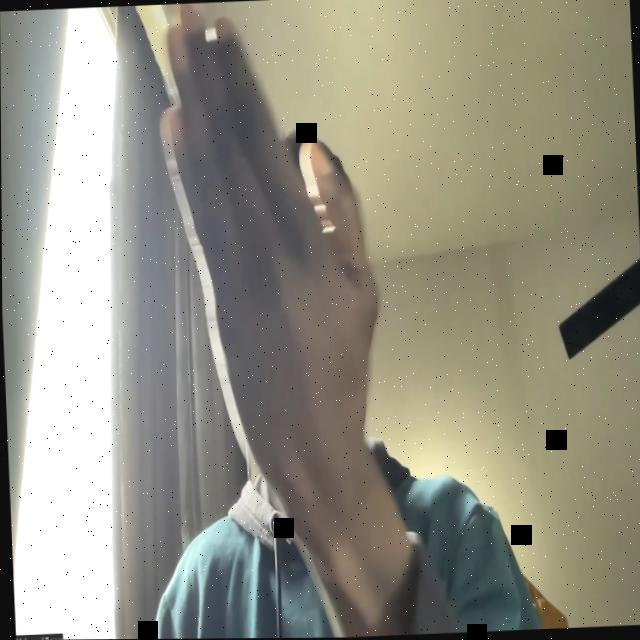Paper: (150, 0, 386, 532)
